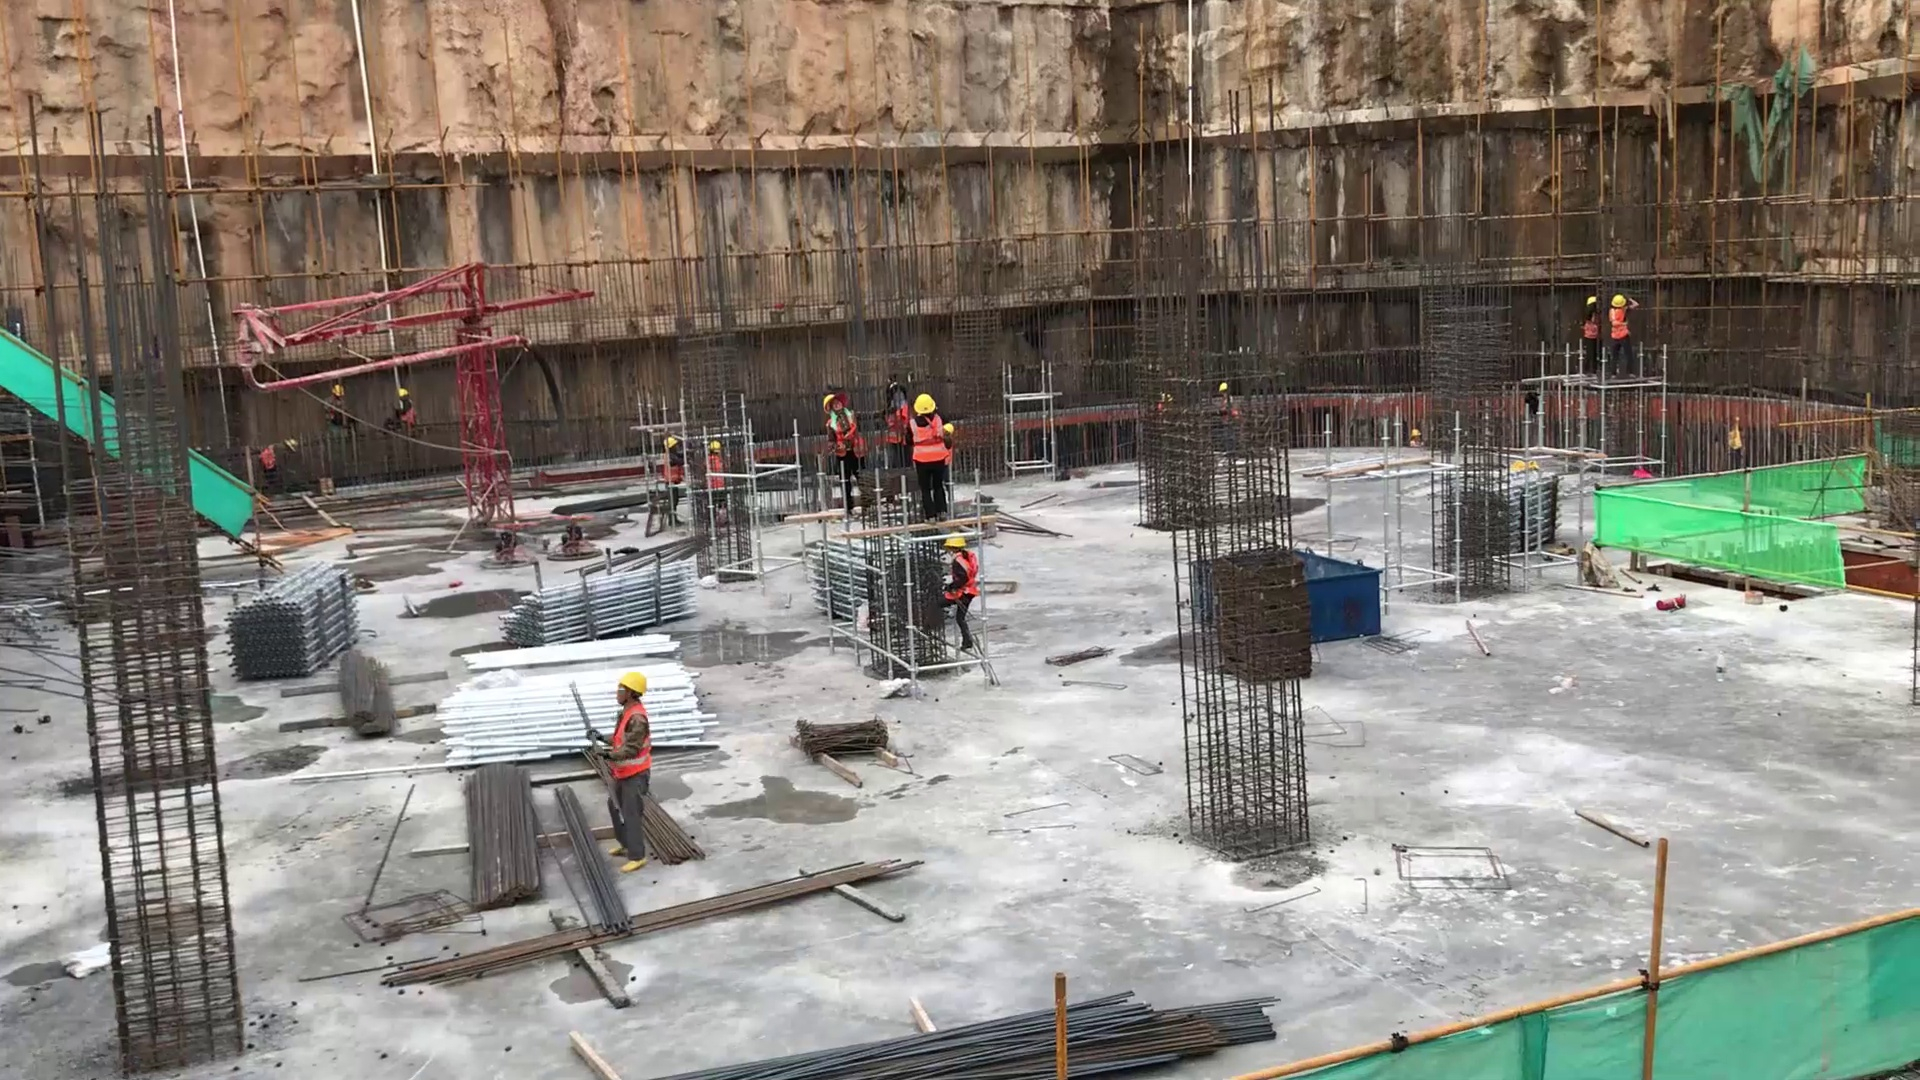helmet: (616, 677, 650, 701), (911, 395, 935, 417), (942, 533, 966, 549), (819, 392, 837, 411), (662, 434, 678, 448), (284, 437, 297, 453), (1610, 295, 1627, 309), (1409, 425, 1422, 441), (707, 442, 721, 454), (332, 384, 345, 396), (396, 388, 407, 400), (1582, 296, 1597, 304), (943, 422, 952, 435), (1219, 383, 1228, 393)
person: (588, 676, 667, 869), (902, 391, 963, 519), (817, 389, 871, 509), (947, 537, 989, 646), (1608, 292, 1637, 371), (1577, 294, 1603, 374)
vest: (606, 703, 657, 776), (903, 417, 945, 466), (945, 551, 981, 607), (828, 412, 869, 458), (1607, 304, 1634, 342), (1579, 308, 1601, 343)
